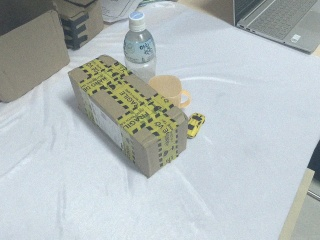bottle: (123, 11, 157, 84)
box: (67, 54, 189, 179), (1, 1, 69, 102)
cup: (148, 75, 192, 110)
toy_car: (186, 111, 205, 139)
